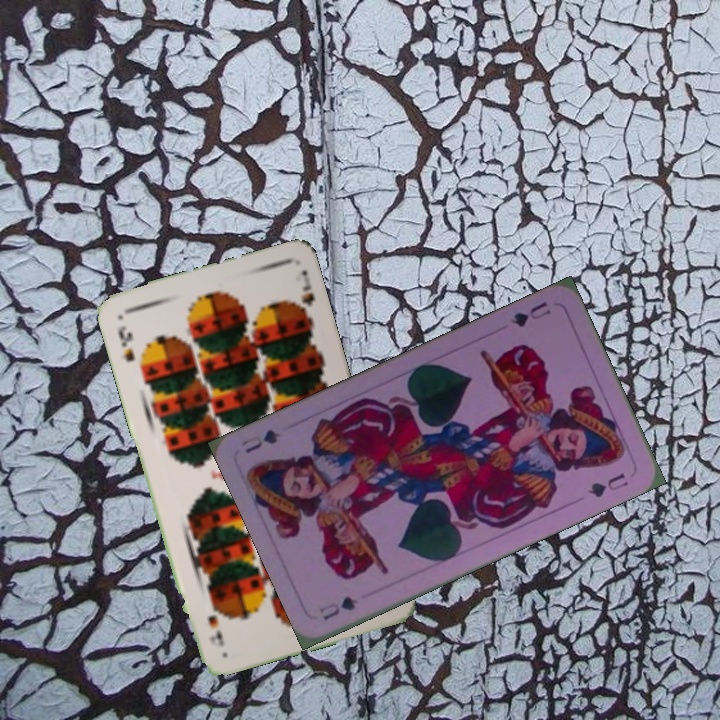GU: (506, 297, 554, 330), (315, 592, 361, 623)
S9: (114, 321, 138, 364)
